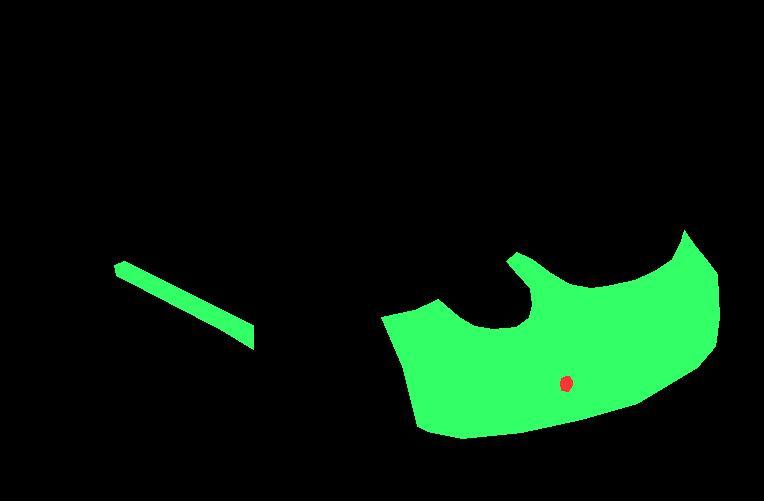Broken part: (381, 230, 719, 438), (114, 261, 253, 349)
Missing part: (483, 396, 587, 428), (560, 376, 572, 391)
Paint chip: (659, 291, 712, 327)
Scratch: (403, 357, 448, 367), (600, 360, 610, 399)
